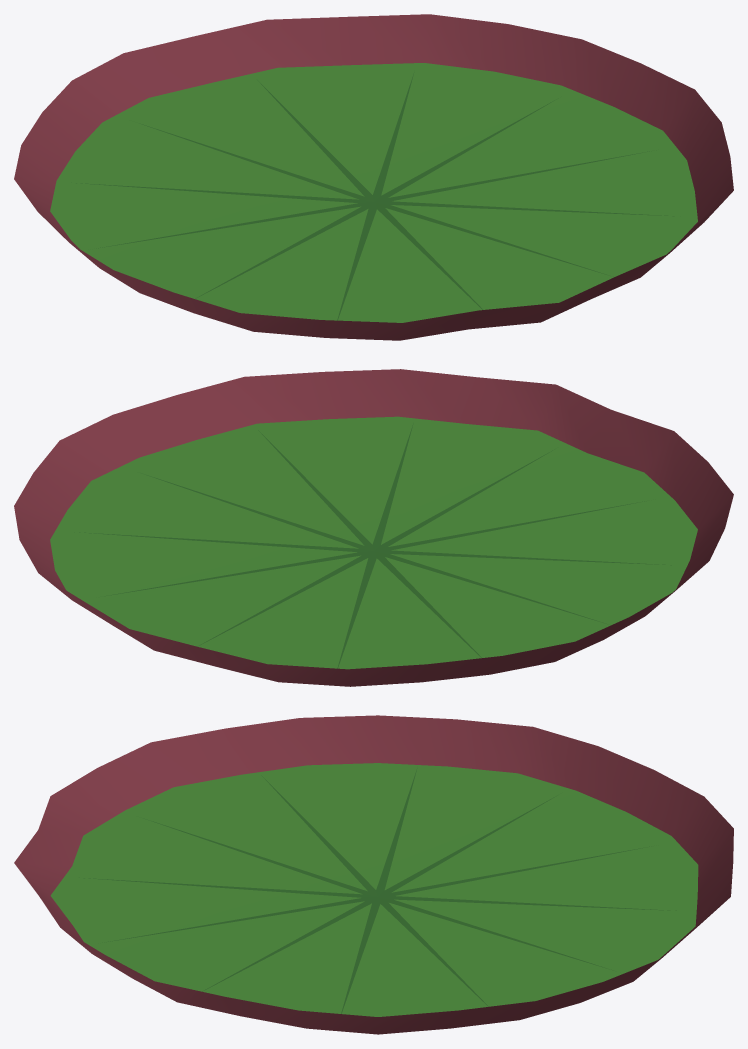
The model's file is lily-giant-a.glb.
3 views of the same model, one above another, from view 1: azimuth 30°, elevation 25°; view 2: azimuth 150°, elevation 25°; view 3: azimuth 270°, elevation 25° (orthographic).
Parts seen in each view (by area): view 1: lily-giant-a; view 2: lily-giant-a; view 3: lily-giant-a.
Part boxes in pixels (x1=…): lily-giant-a: x1=14, y1=14, x2=733, y2=340; lily-giant-a: x1=14, y1=369, x2=733, y2=686; lily-giant-a: x1=14, y1=715, x2=733, y2=1034.
Bounding box in the file's own units: 0.9192 × 0.05 × 0.927.
